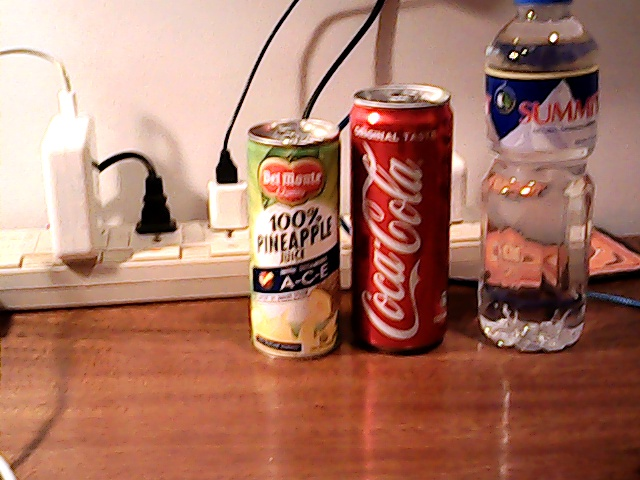Cola: (340, 78, 461, 353)
Pine Juice: (233, 106, 343, 363)
Summit Water: (475, 4, 605, 368)
